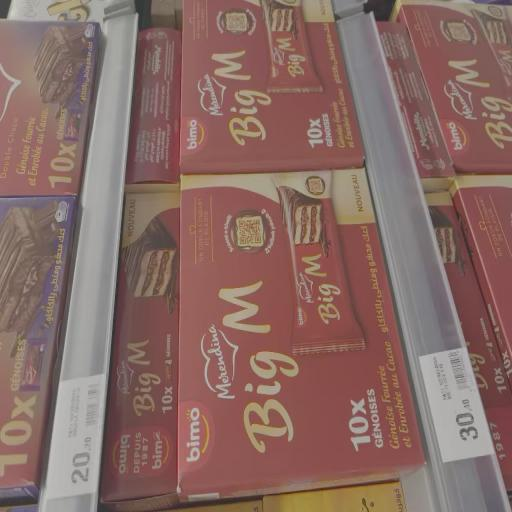merendina: (272, 170, 363, 356), (258, 3, 334, 107)
